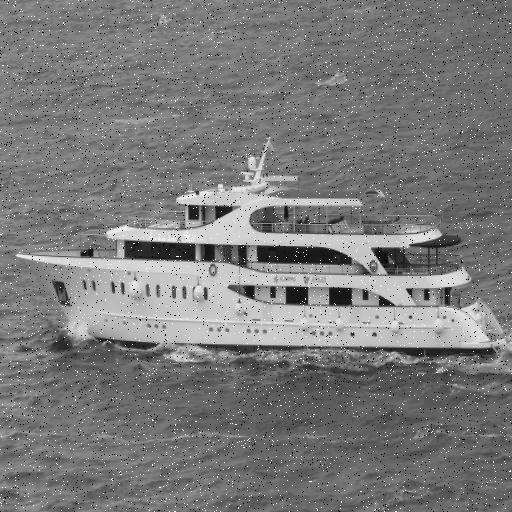cruises: (15, 136, 512, 367)
